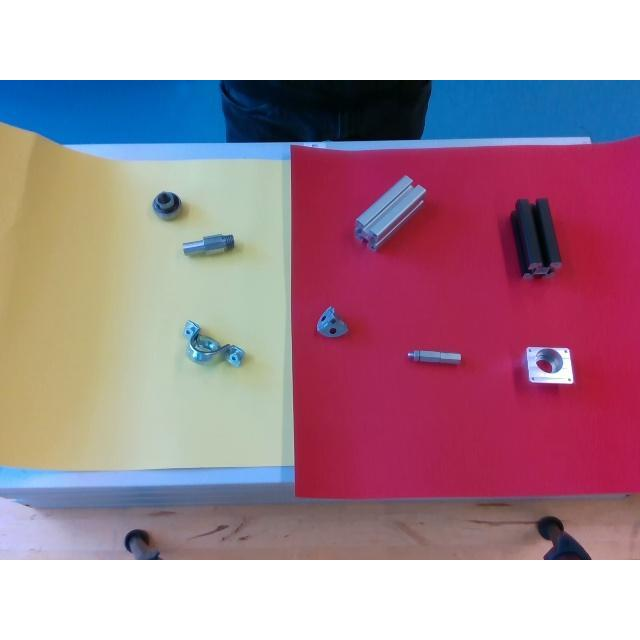Axis2: (182, 232, 234, 258)
Bearing2: (152, 191, 182, 219)
Housing: (184, 321, 244, 364)
S40_40_B: (511, 197, 561, 276)
S40_40_G: (354, 175, 426, 249)
